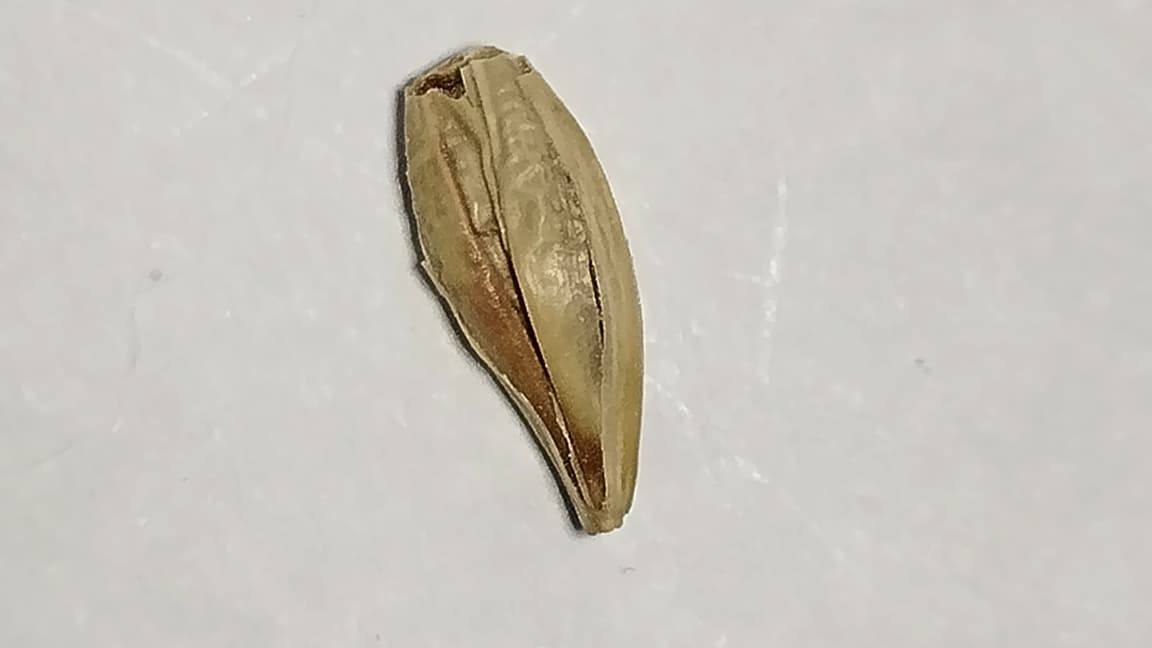damage: (402, 47, 642, 533)
staindamage: (463, 310, 628, 538), (534, 193, 626, 388), (394, 50, 470, 97)
